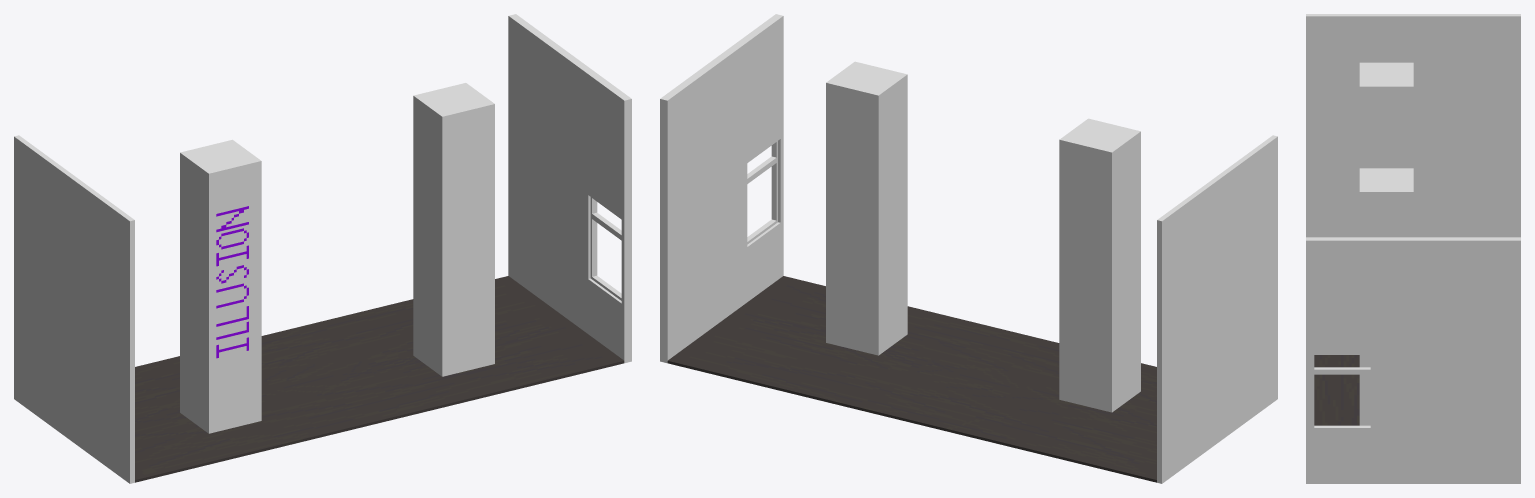
The model's file is TwoColumns.obj.
3 views of the same model, side by side, from view 1: azimuth 30°, elevation 25°; view 2: azimuth 150°, elevation 25°; view 3: azimuth 270°, elevation 25° (orthographic). The views are drawn at different scales.
Bounding box in the file's own units: 20 × 10 × 8.
Materials: 1 (1 with a texture image).
